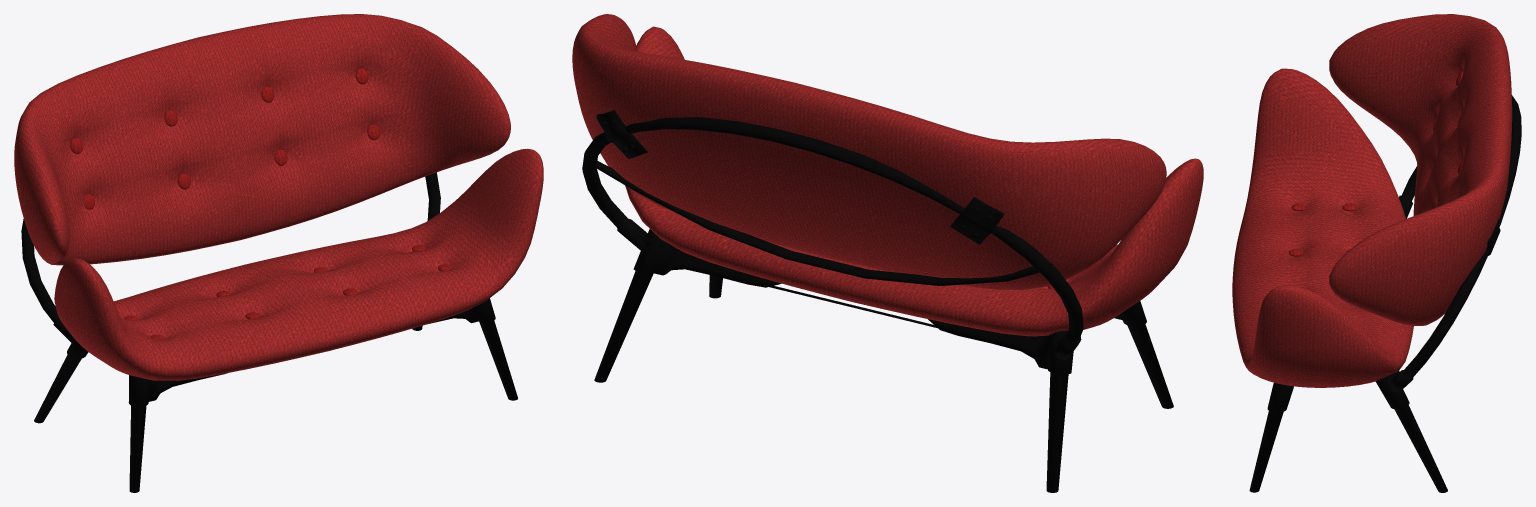
Rendered from mini-canapea.84cab4a5f2.glb.
3 views of the same model, side by side, from view 1: azimuth 30°, elevation 25°; view 2: azimuth 150°, elevation 25°; view 3: azimuth 270°, elevation 25° (orthographic). The views are drawn at different scales.
Visible parts, largest first — view 1: StaticMesh_minisofaefni_0, StaticMesh_minisofafeet_0, StaticMesh_minisofahnappar_0; view 2: StaticMesh_minisofaefni_0, StaticMesh_minisofafeet_0; view 3: StaticMesh_minisofaefni_0, StaticMesh_minisofafeet_0, StaticMesh_minisofahnappar_0.
Part boxes in pixels (x1,y1,x2,y2): StaticMesh_minisofaefni_0: (14, 14, 543, 380); StaticMesh_minisofafeet_0: (21, 172, 517, 492); StaticMesh_minisofahnappar_0: (70, 68, 451, 339); StaticMesh_minisofaefni_0: (572, 14, 1203, 336); StaticMesh_minisofafeet_0: (582, 110, 1173, 492); StaticMesh_minisofaefni_0: (1232, 14, 1512, 387); StaticMesh_minisofafeet_0: (1249, 95, 1521, 492); StaticMesh_minisofahnappar_0: (1288, 71, 1463, 256).
Bounding box in the file's own units: 1.21 × 0.7828 × 0.6628.
3 materials, 2 textured.
